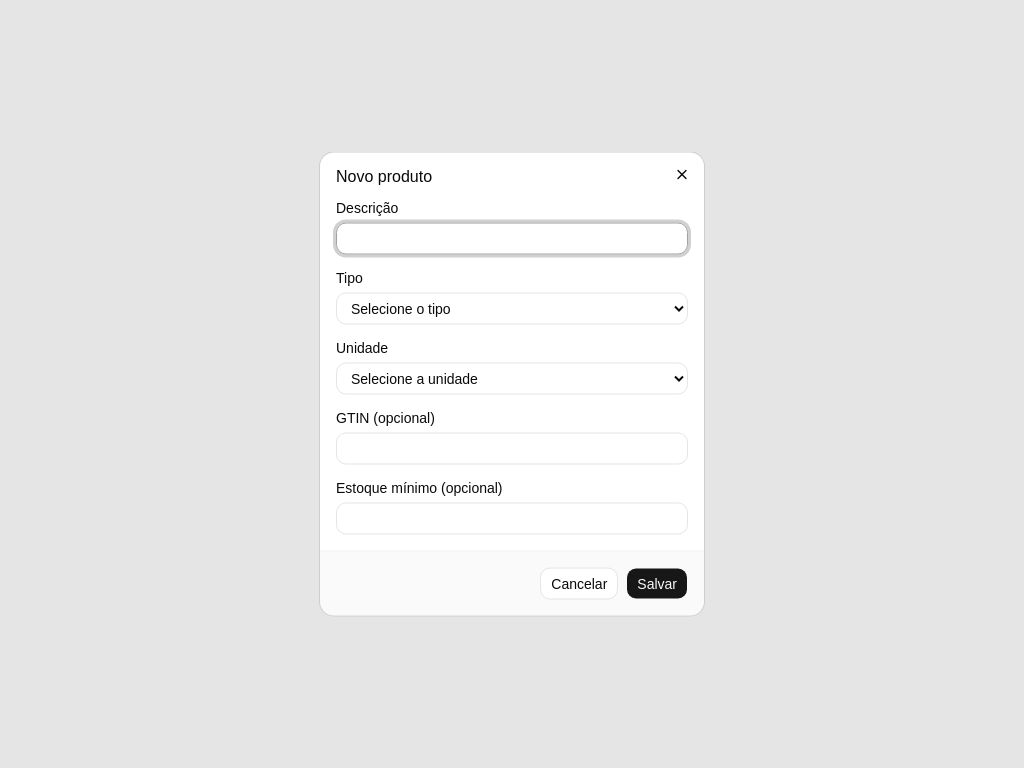
ProductDialog › refuses a product with no description, kind or unit
Click the button "Salvar" at x=657, y=584, box left=626, top=568, right=688, bottom=600
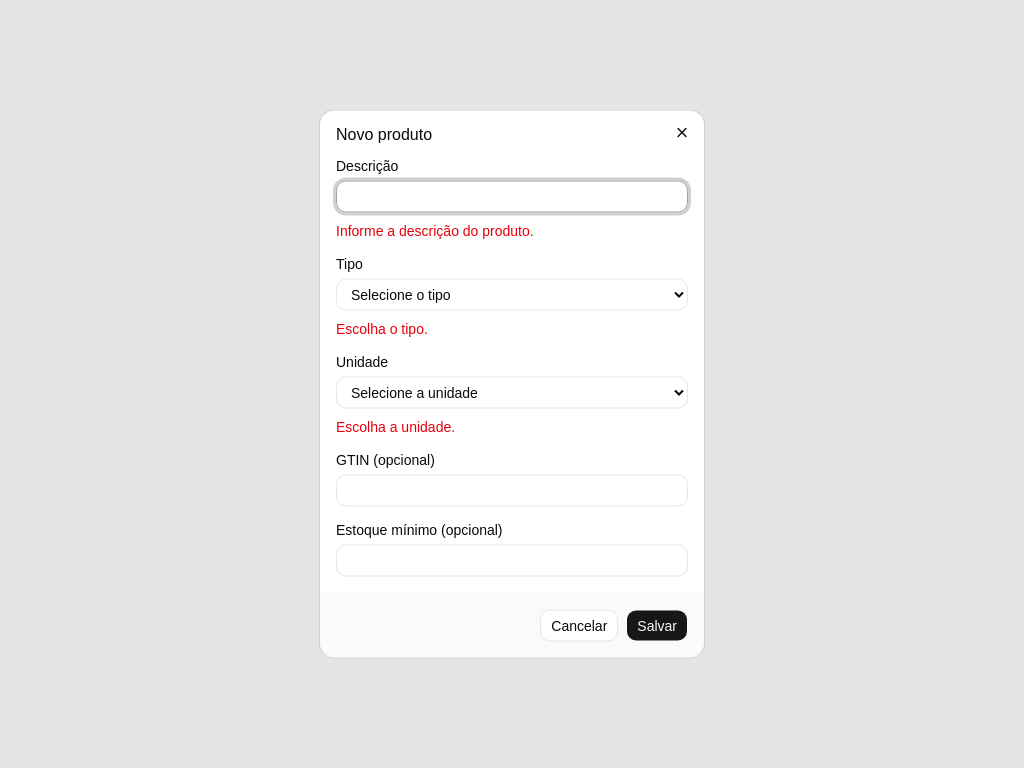
Now the text "Informe a descrição do produto." is shown, box left=336, top=222, right=534, bottom=238
Now the text "Escolha o tipo." is shown, box left=336, top=320, right=428, bottom=336
Now the text "Escolha a unidade." is shown, box left=336, top=418, right=455, bottom=434
